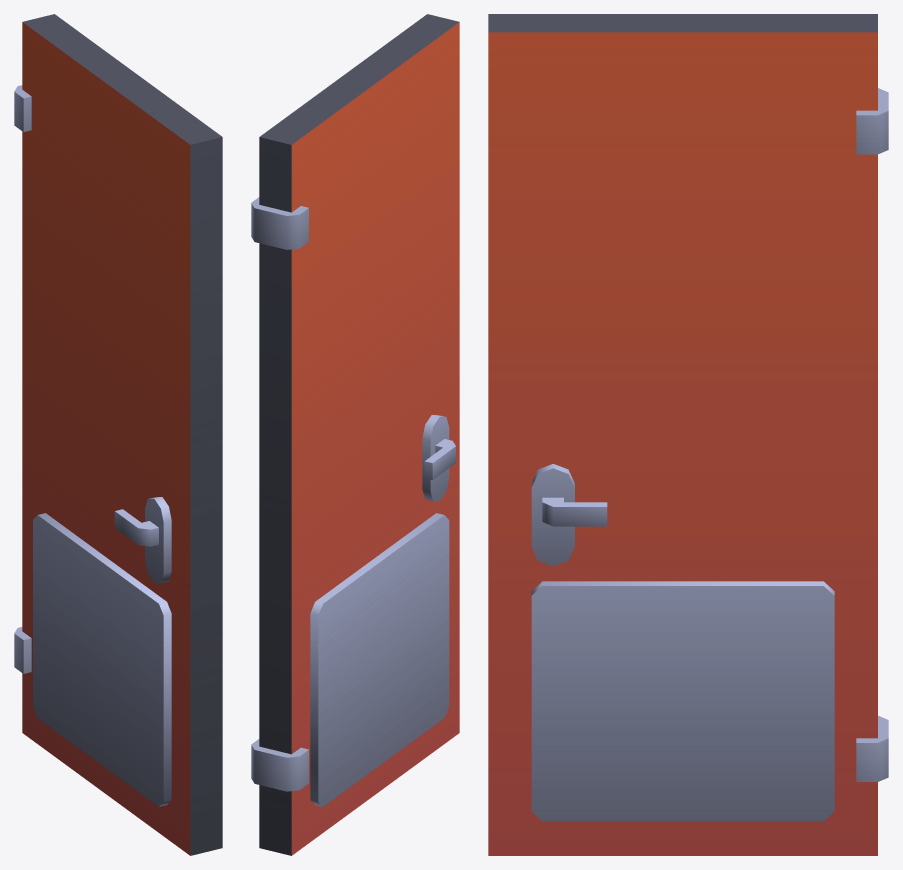
The model's file is part_door_rotate_square_a.fbx.
The picture shows the model from 3 angles, left to right: view 1: azimuth 30°, elevation 25°; view 2: azimuth 150°, elevation 25°; view 3: azimuth 270°, elevation 25°; orthographic projection. The views are drawn at different scales.
Parts seen in each view (by area): view 1: door, handle; view 2: door, handle; view 3: door, handle.
Boxes of the visible parts, bbox=[...] form: door: bbox=[14, 14, 222, 855]; handle: bbox=[114, 509, 158, 546]; door: bbox=[251, 14, 459, 855]; handle: bbox=[424, 439, 455, 479]; door: bbox=[488, 14, 888, 855]; handle: bbox=[542, 497, 607, 526].
Size of the model in its own units: 25 by 210 by 92.5.
Materials: 1 (1 with a texture image).
